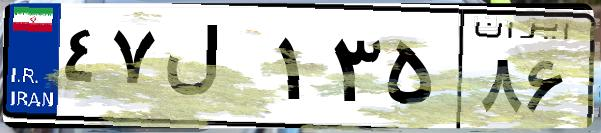1: (270, 28, 330, 110)
3: (330, 28, 385, 110)
4: (57, 26, 110, 100)
5: (385, 28, 445, 110)
6: (525, 38, 570, 115)
7: (110, 28, 158, 98)
8: (475, 38, 525, 113)
ل: (158, 20, 270, 120)
